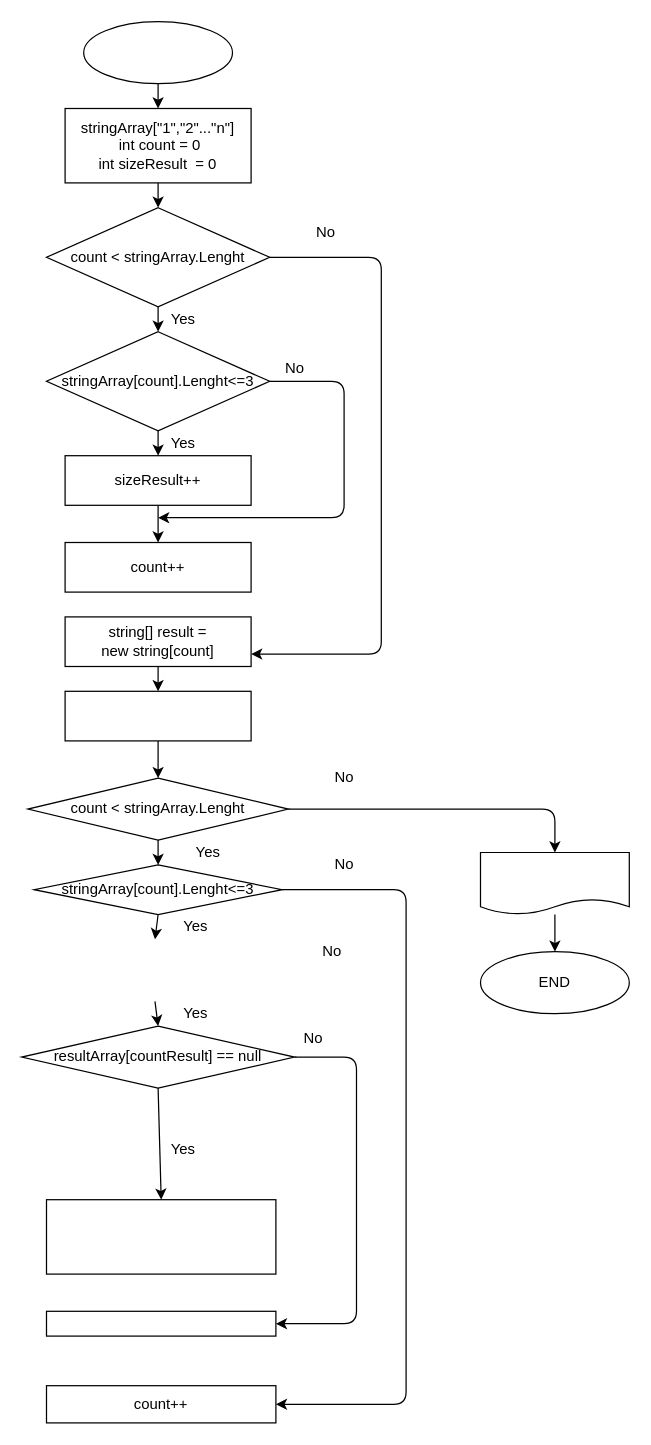
The diagram is 651 pixels wide and 1445 high, and some of its shapes have lost their labels. The centre of each missing label's shape, as x and y in pixels:
"count = 0 int countResult = 0" goes at pixel 157 715.
"countResult++" goes at pixel 160 1323.
"resultArray[]" goes at pixel 554 882.
"resultArray[countResult] = stringArray[count] countResult = 0 count++" goes at pixel 160 1236.
"START" goes at pixel 157 52.
